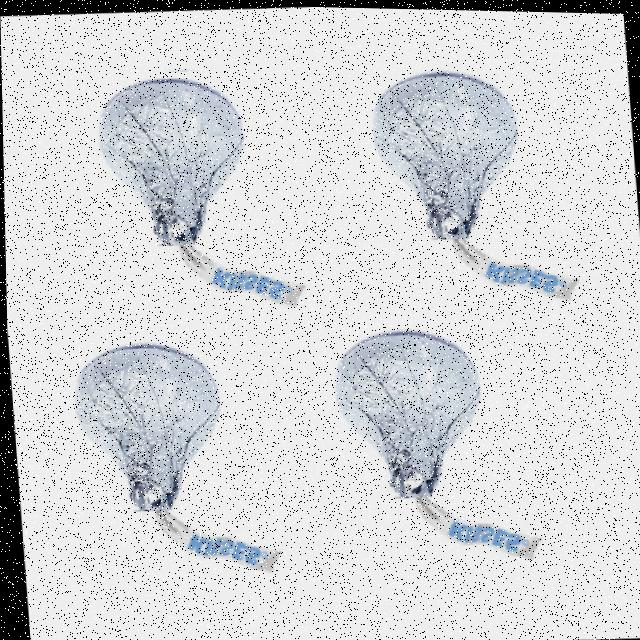kisses: (309, 296, 565, 589), (35, 322, 303, 593), (93, 72, 300, 309), (370, 68, 577, 301)
